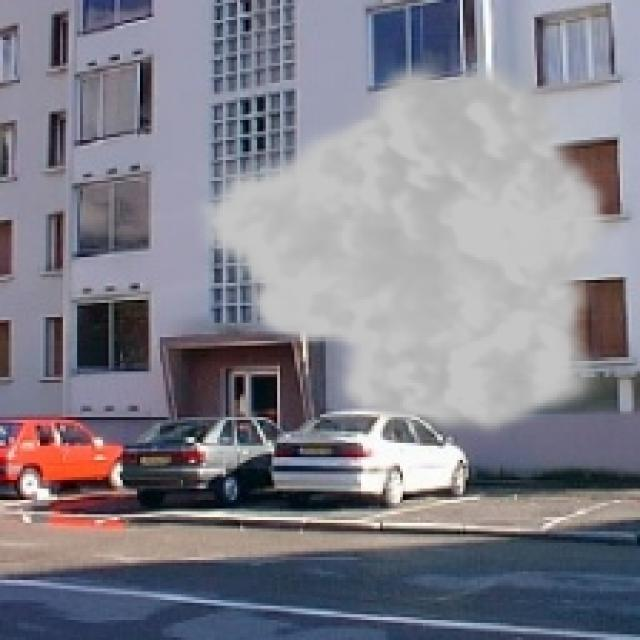smoke: (188, 51, 612, 440)
